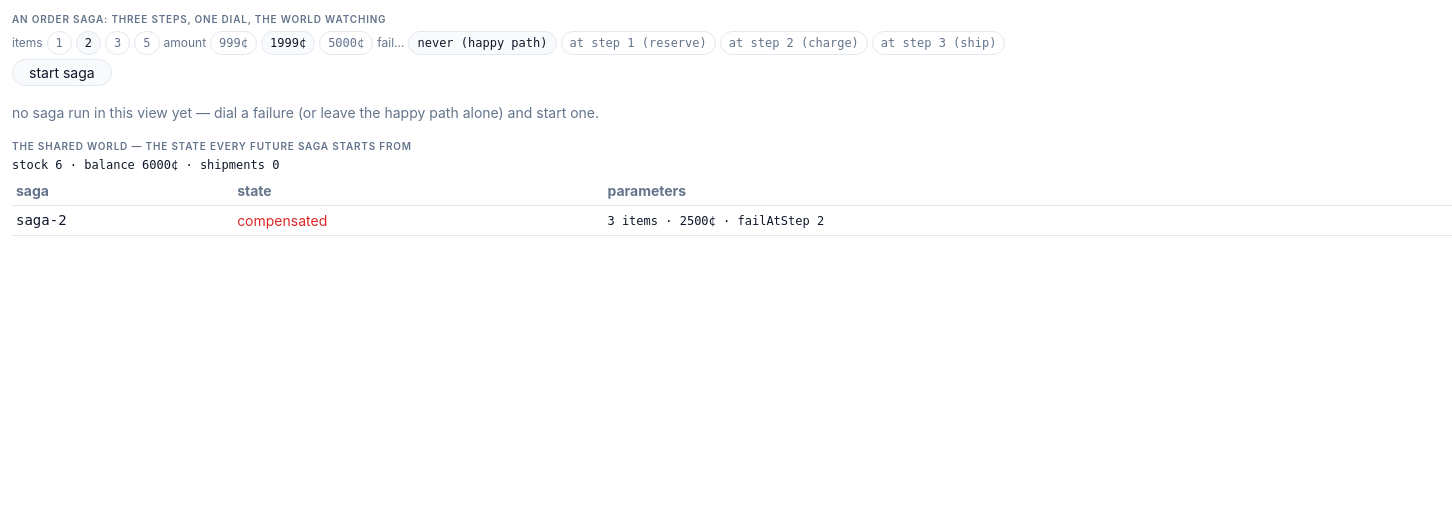
Test: SagaDemo › rides the fail-at-step dial and renders the compensation trail
Check: the text "stock 6 · balance 6000¢ · shipments 0" is shown, box x1=12 y1=158 x2=279 y2=172
Click the button "at step 2 (charge)" at (794, 43), box x1=720 y1=31 x2=868 y2=55
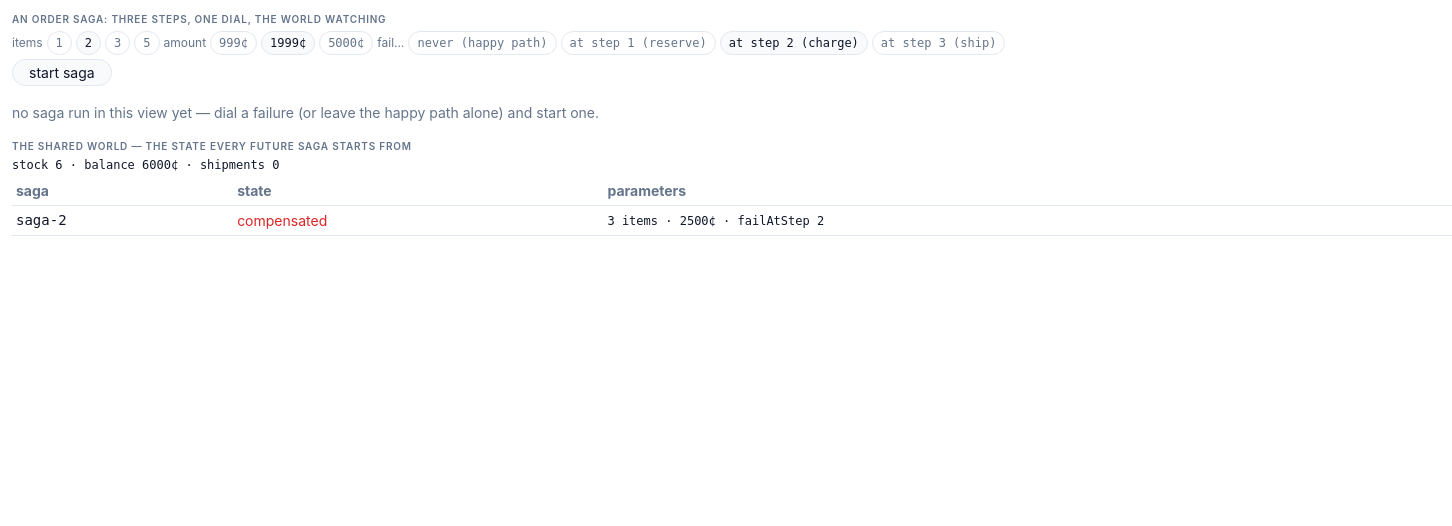
Click the button with test id "saga-run" at (62, 72), box x1=12 y1=59 x2=112 y2=86
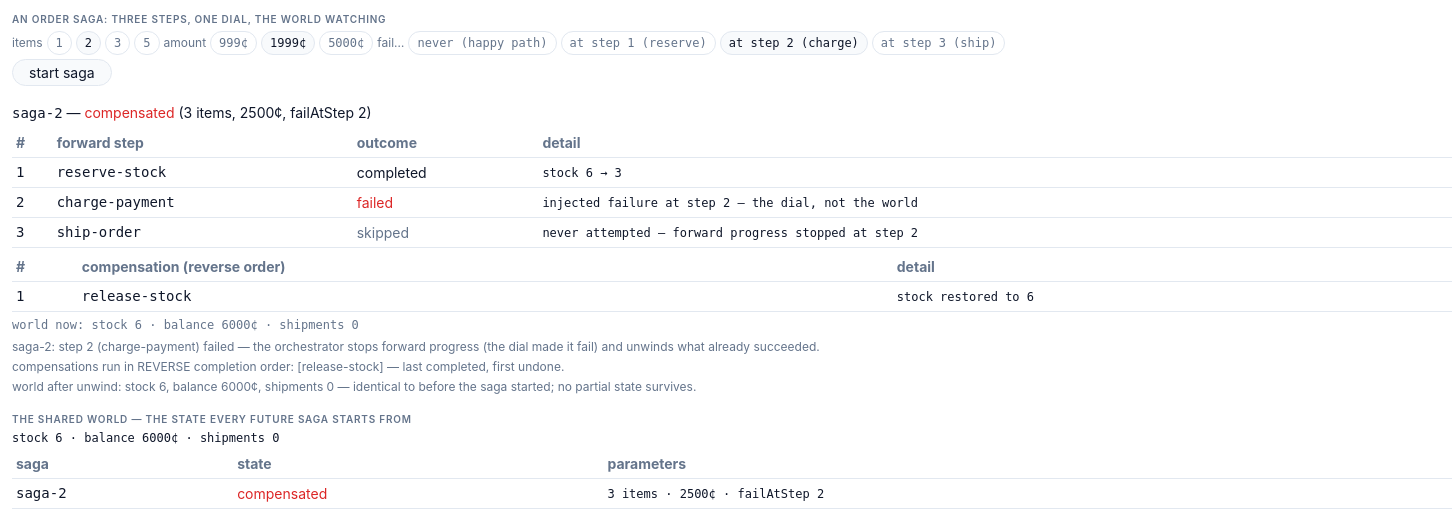
Check: the element with test id "saga-report" shows "compensated", box x1=84 y1=104 x2=175 y2=121
Check: the row with test id "saga-step-1" shows "failed", box x1=357 y1=194 x2=393 y2=211
Check: the row with test id "saga-step-2" shows "skipped", box x1=357 y1=224 x2=409 y2=241
